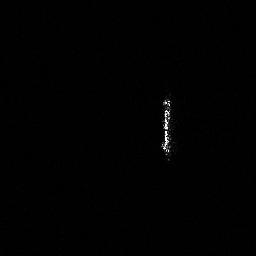ship: (156, 95, 176, 157)
